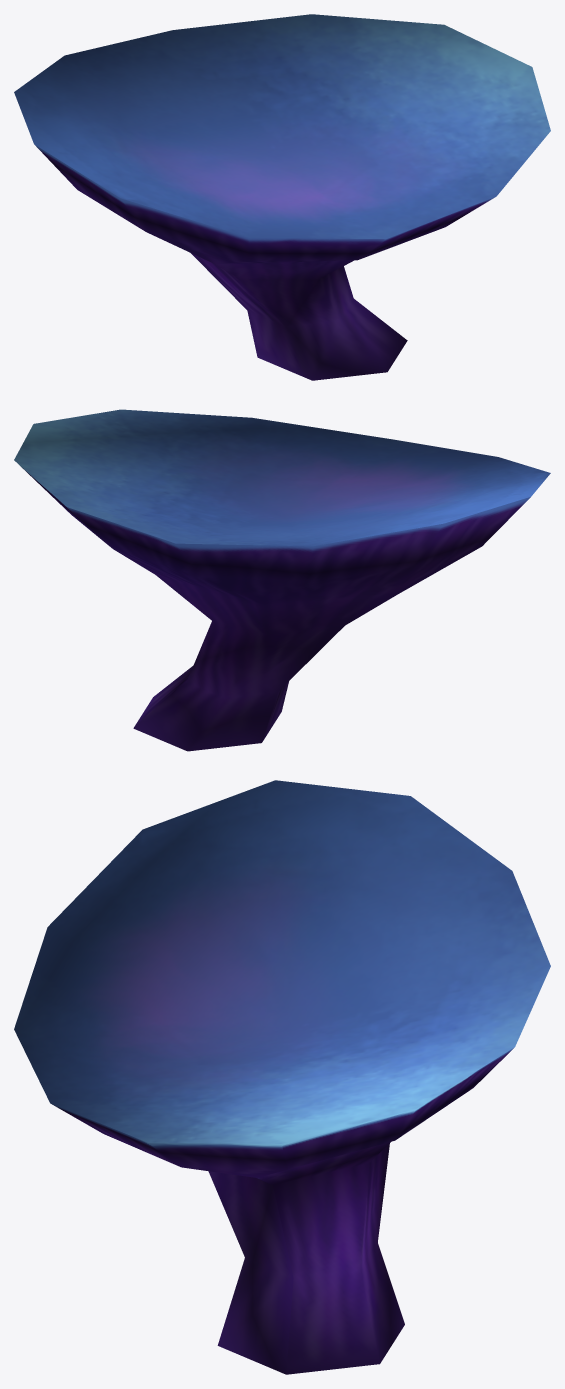
File: SleepingGarden_Mushroom.fbx
The picture shows the model from 3 angles, top to bottom: view 1: azimuth 30°, elevation 25°; view 2: azimuth 150°, elevation 25°; view 3: azimuth 270°, elevation 25°; orthographic projection. The views are drawn at different scales.
Visible parts, largest first — view 1: SleepingGarden_Mushroom; view 2: SleepingGarden_Mushroom; view 3: SleepingGarden_Mushroom.
Boxes of the visible parts, x1,y1,x2,y2 form: SleepingGarden_Mushroom: (14,14,550,380); SleepingGarden_Mushroom: (14,409,550,751); SleepingGarden_Mushroom: (14,780,550,1374).
Bounding box in the file's own units: 0.9197 × 0.5581 × 0.684.
1 material, 1 textured.
